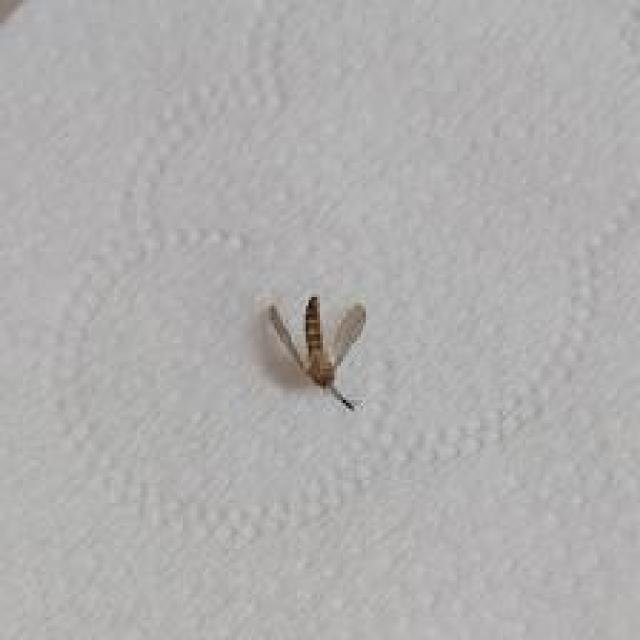Culex: (266, 294, 368, 412)
